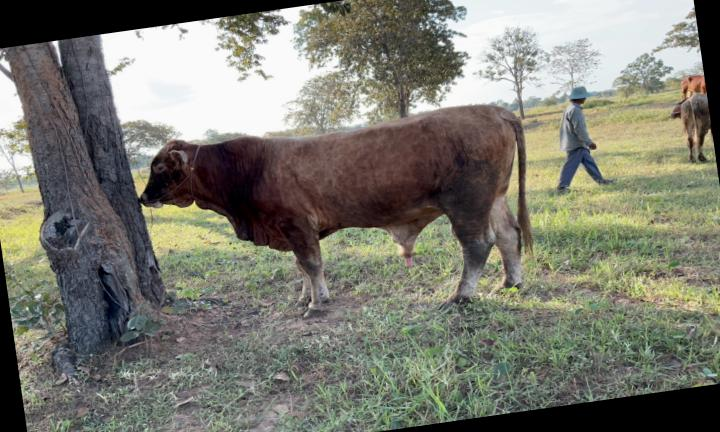Charolais: (140, 105, 531, 314)
